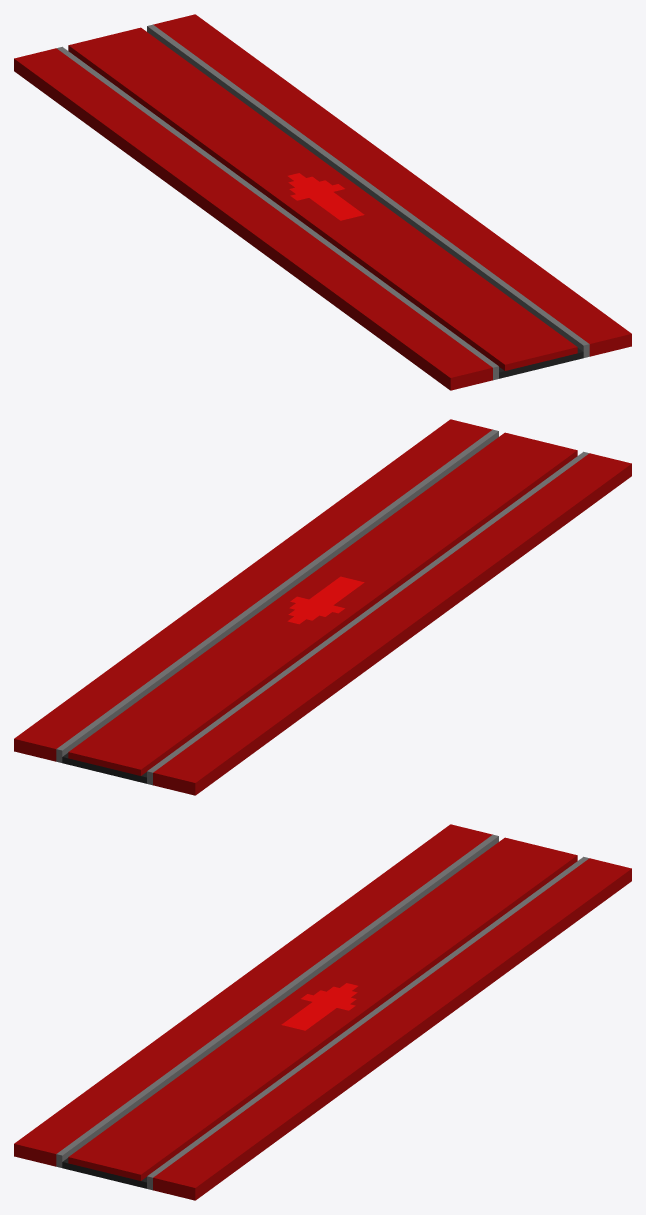
File: light-rail.obj
The picture shows the model from 3 angles, top to bottom: view 1: azimuth 30°, elevation 25°; view 2: azimuth 150°, elevation 25°; view 3: azimuth 330°, elevation 25°; orthographic projection.
Size of the model in its own units: 30 by 2 by 125.
